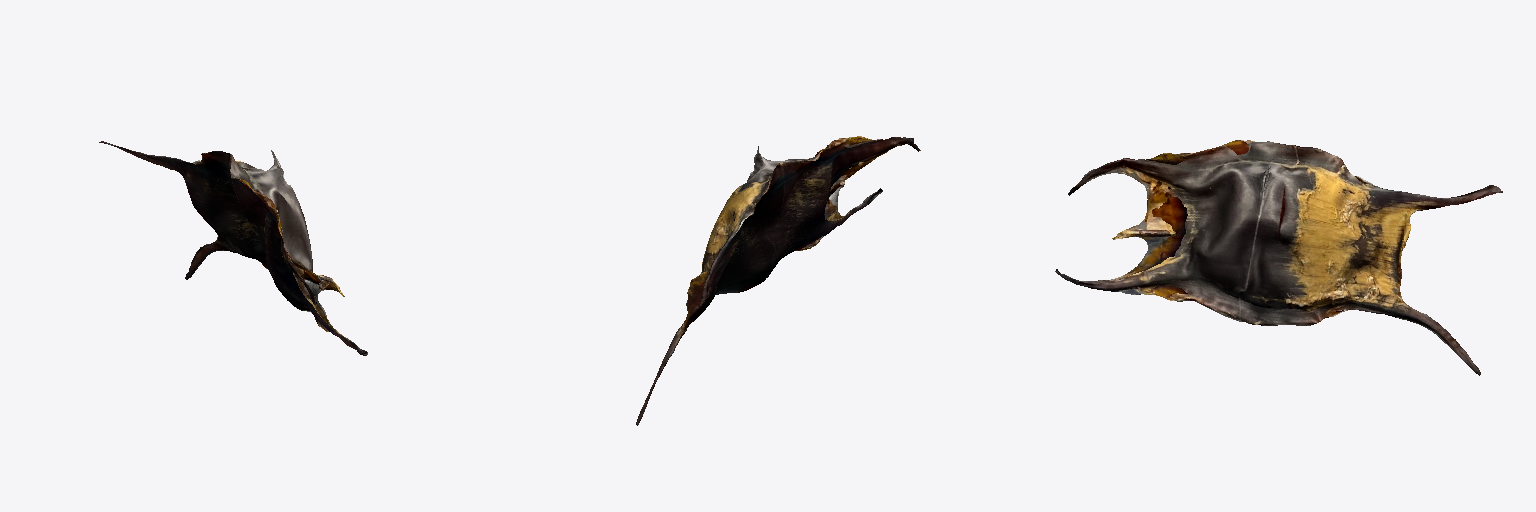
The picture shows the model from 3 angles: view 1: azimuth 30°, elevation 25°; view 2: azimuth 150°, elevation 25°; view 3: azimuth 270°, elevation 25°; orthographic projection.
Bounding box in the file's own units: 0.0443 × 0.0875 × 0.1698.
1 materials, 1 textured.